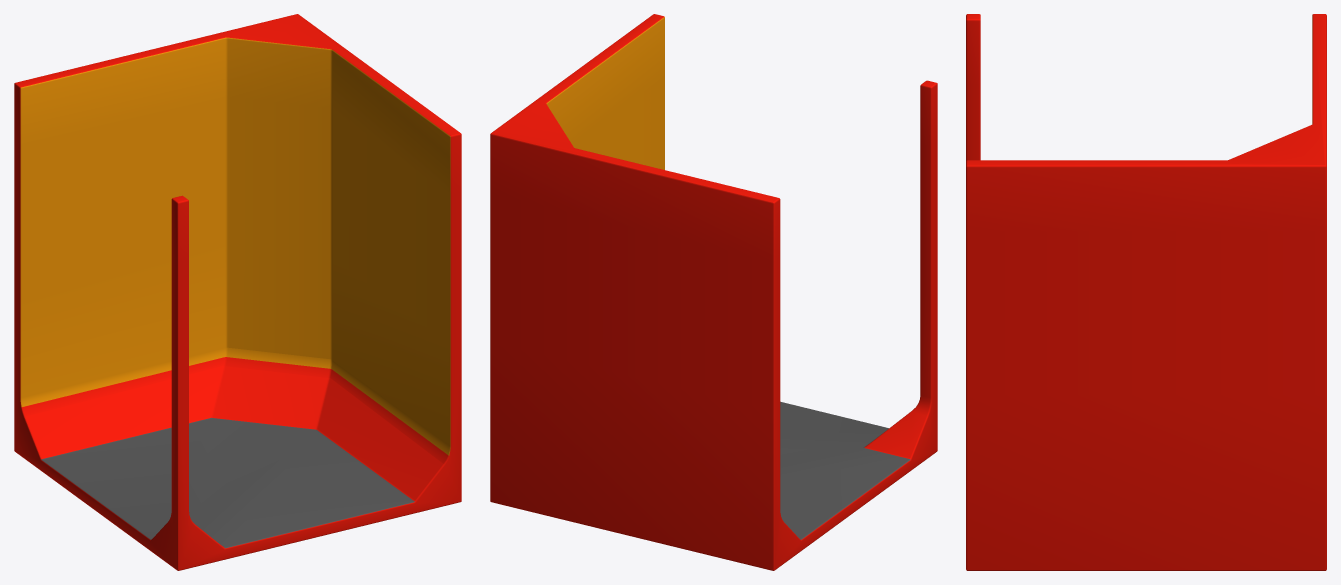
The picture shows the model from 3 angles, left to right: view 1: azimuth 30°, elevation 25°; view 2: azimuth 150°, elevation 25°; view 3: azimuth 270°, elevation 25°; orthographic projection. The views are drawn at different scales.
Visible parts, largest first — view 1: S12; view 2: S12; view 3: S12.
Boxes of the visible parts, box(x1,y1,x2,y2) form: S12: box(14, 14, 461, 570); S12: box(490, 14, 937, 570); S12: box(966, 14, 1326, 570).
Size of the model in its own units: 200 by 248 by 200.
